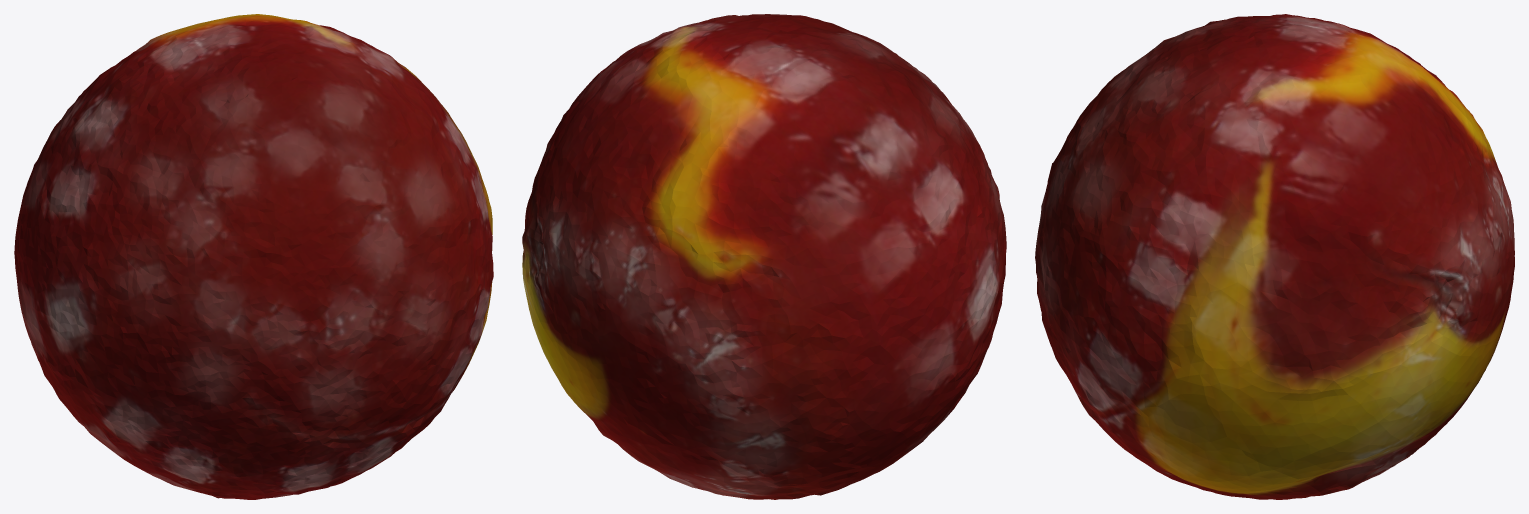
The model's file is b_marbles.glb.
The picture shows the model from 3 angles, left to right: view 1: azimuth 30°, elevation 25°; view 2: azimuth 150°, elevation 25°; view 3: azimuth 270°, elevation 25°; orthographic projection.
Visible parts, largest first — view 1: textured.obj; view 2: textured.obj; view 3: textured.obj.
Part boxes in pixels (x1,y1,x2,y2): textured.obj: (14,14,493,499); textured.obj: (522,14,1006,499); textured.obj: (1035,14,1514,499).
Bounding box in the file's own units: 0.0347 × 0.0348 × 0.0344.
Materials: 1 (1 with a texture image).
